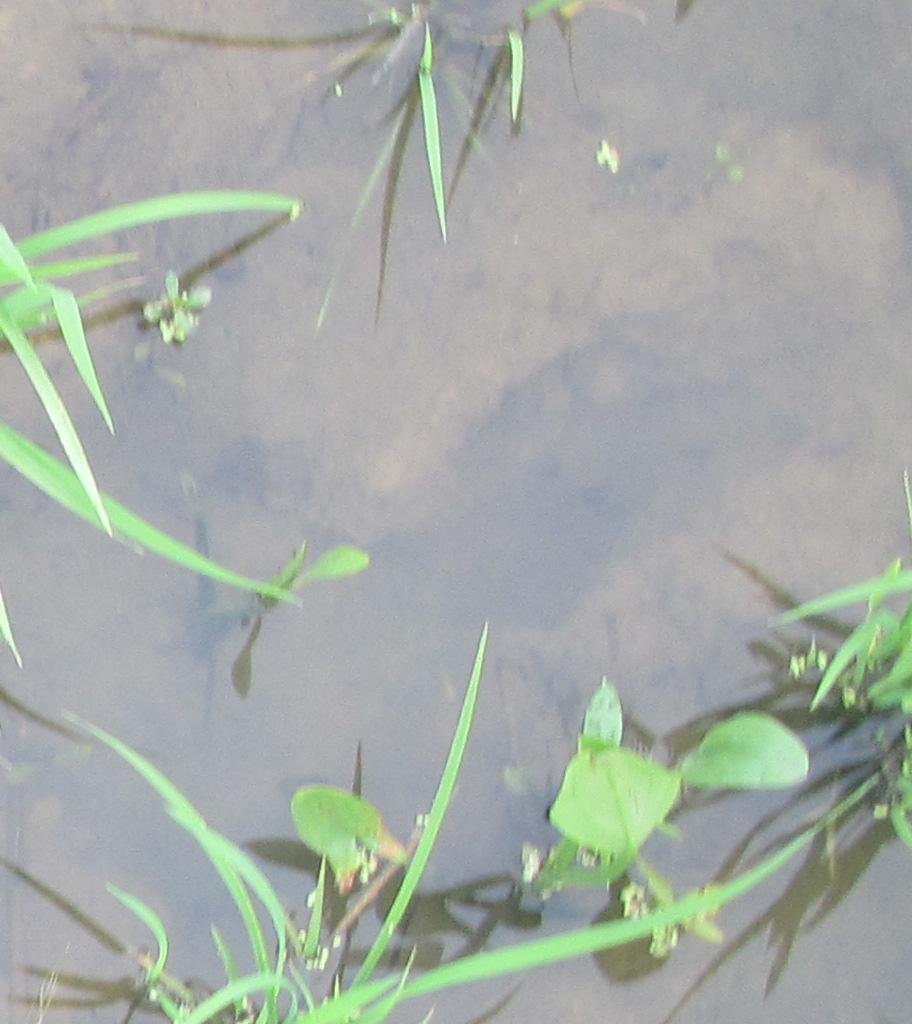Weed: (542, 707, 816, 871), (282, 777, 403, 885)
